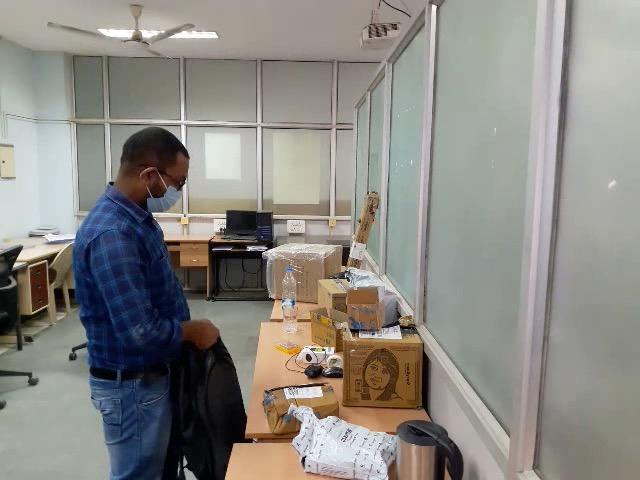shoplifting: (59, 278, 284, 469)
